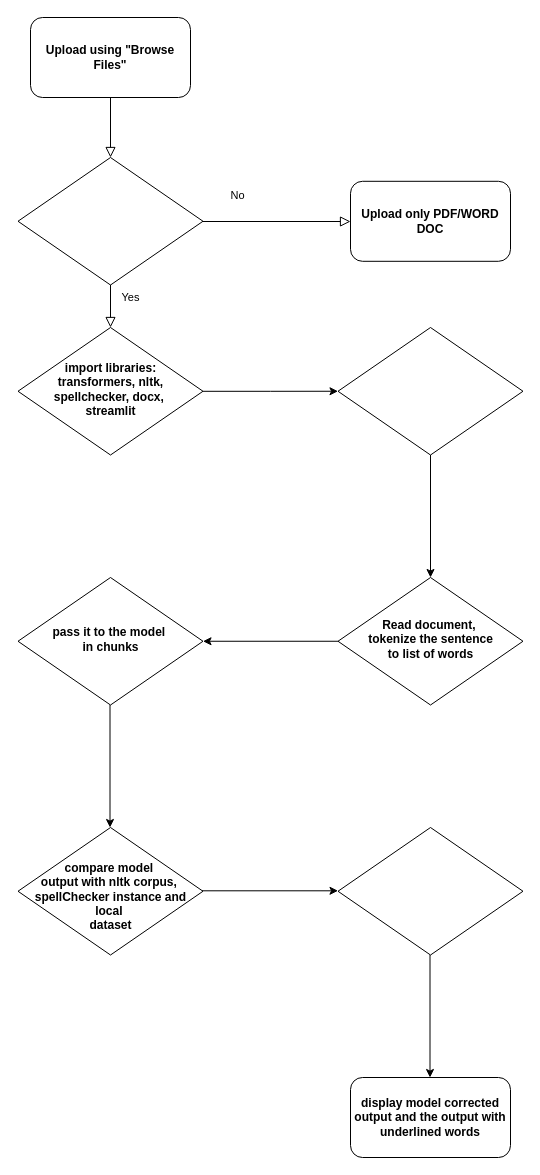
This 540x1175 diagram has some shape labels left out. Each missing label, with the centre of its shape:
invoke pipeline with HF model: bart-base-grammar- synthesis: [430,390]
PDF/Word DOC?: [110,220]
underline if word is not present: [430,890]
